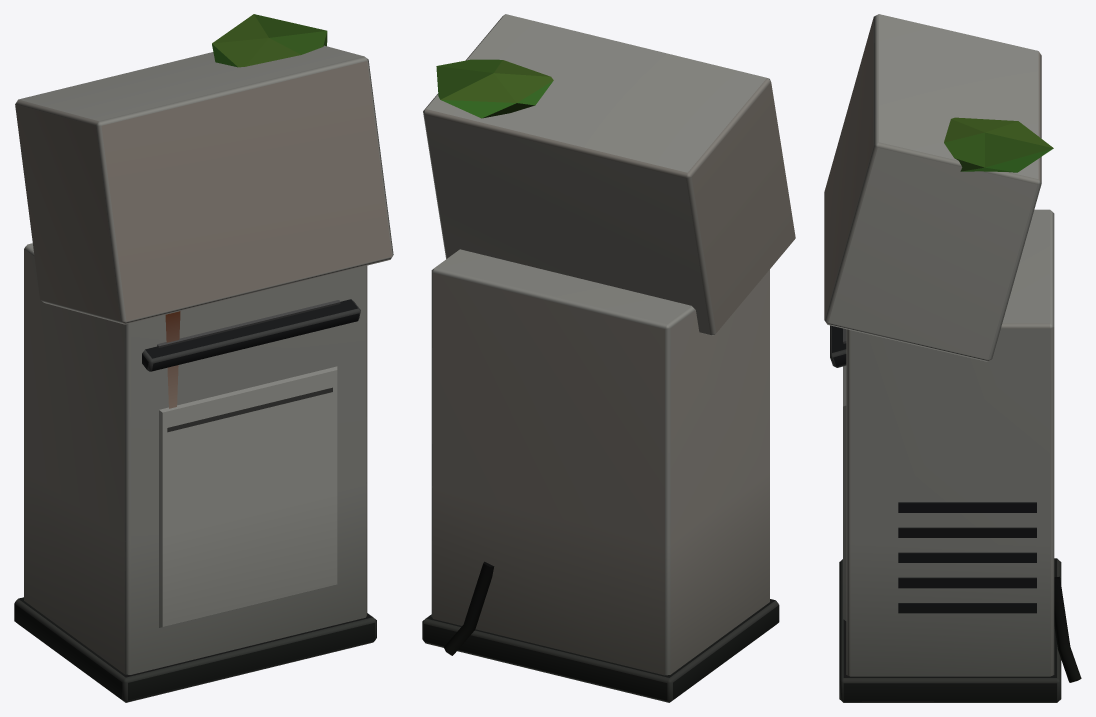
The model's file is flicker_terminal.glb.
The picture shows the model from 3 angles, left to right: view 1: azimuth 30°, elevation 25°; view 2: azimuth 150°, elevation 25°; view 3: azimuth 270°, elevation 25°; orthographic projection.
Visible parts, largest first — view 1: Mesh; view 2: Mesh; view 3: Mesh.
Part boxes in pixels (<box>): Mesh: <box>14,14,393,702</box>; Mesh: <box>422,14,795,702</box>; Mesh: <box>824,14,1081,702</box>.
Bounding box in the file's own units: 0.9424 × 1.8 × 0.7422.
